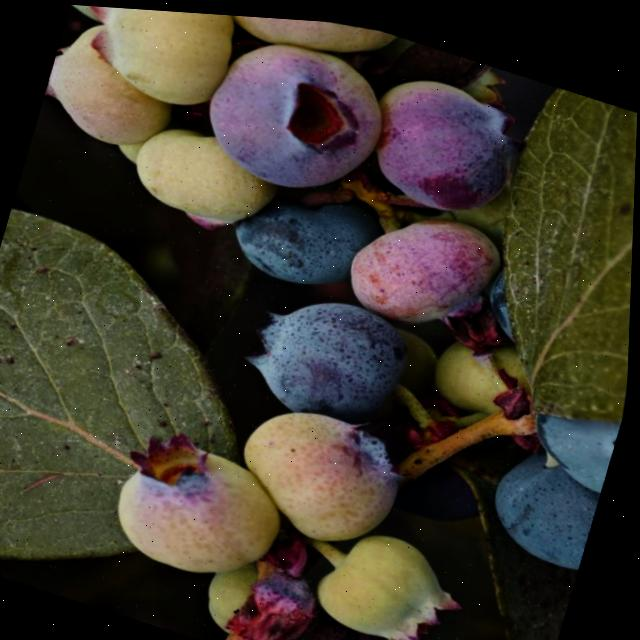RipeBlueBerry: (230, 262, 436, 449), (218, 157, 397, 311), (474, 427, 612, 579), (516, 377, 627, 499)
Semi-RipeBlueBerry: (178, 10, 411, 224), (347, 42, 544, 237), (328, 178, 522, 353)
UnripeBlueBerry: (90, 399, 313, 608), (217, 374, 432, 571), (33, 2, 197, 168), (119, 102, 296, 255), (62, 3, 252, 132), (299, 503, 477, 640), (201, 11, 407, 87)
